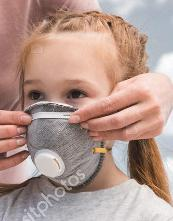OK: (23, 64, 111, 187)
